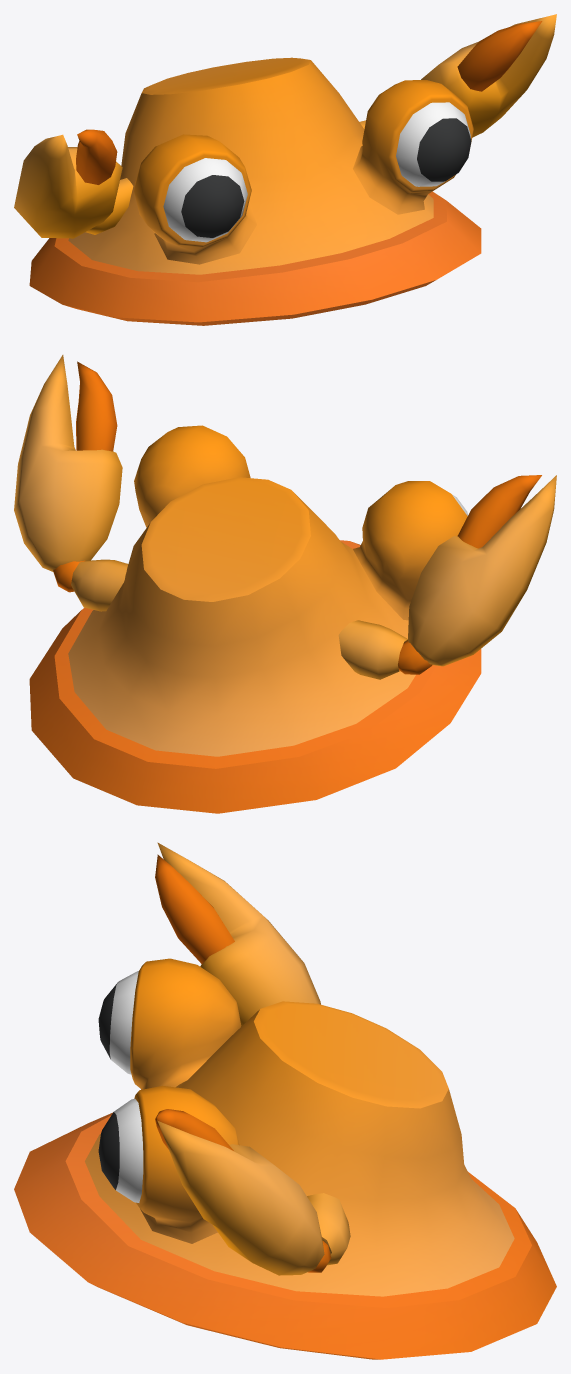
File: Hat_03.glb
The picture shows the model from 3 angles, top to bottom: view 1: azimuth 30°, elevation 25°; view 2: azimuth 150°, elevation 25°; view 3: azimuth 270°, elevation 25°; orthographic projection. The views are drawn at different scales.
Parts seen in each view (by area): view 1: Hat_03; view 2: Hat_03; view 3: Hat_03.
Part boxes in pixels (x1,y1,x2,y2): Hat_03: (14,14,556,325); Hat_03: (14,355,556,813); Hat_03: (14,842,556,1359).
Bounding box in the file's own units: 1.1 × 0.5482 × 0.8694.
Materials: 1 (1 with a texture image).
